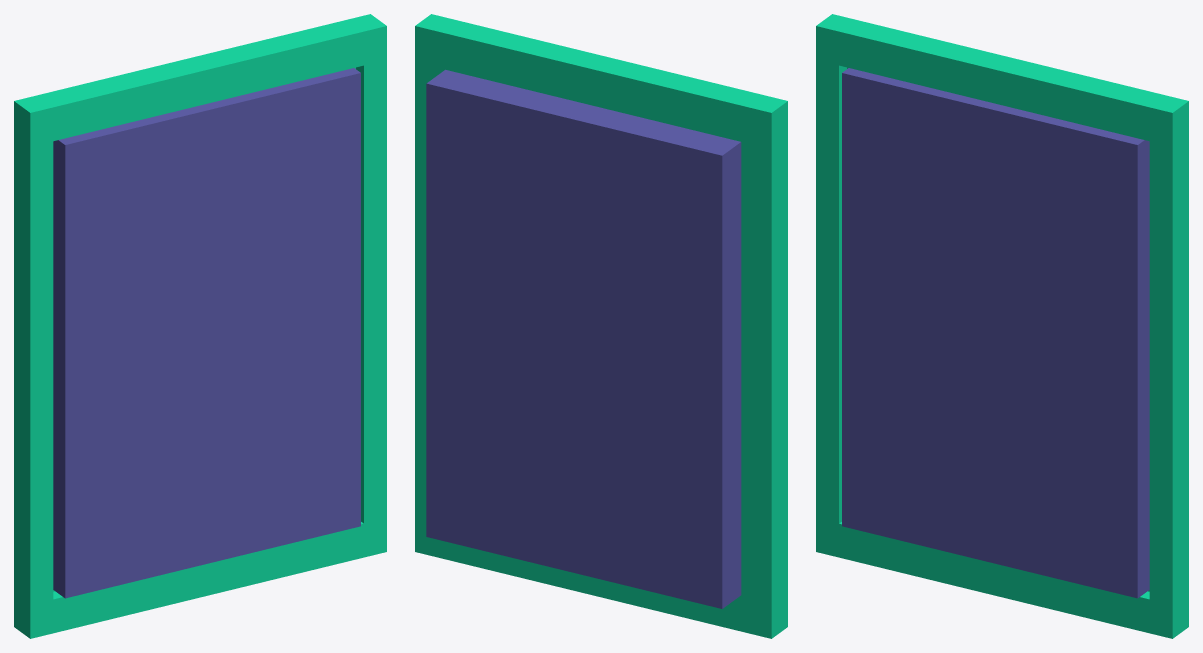
File: cuadro_ok.fbx
3 views of the same model, side by side, from view 1: azimuth 30°, elevation 25°; view 2: azimuth 150°, elevation 25°; view 3: azimuth 330°, elevation 25° (orthographic).
Parts seen in each view (by area): view 1: Cube_1, Cube; view 2: Cube_1, Cube; view 3: Cube_1, Cube.
Part boxes in pixels (x1,y1,x2,y2): Cube_1: [53, 68, 360, 598]; Cube: [14, 14, 386, 638]; Cube_1: [426, 69, 741, 608]; Cube: [415, 14, 787, 638]; Cube_1: [842, 68, 1149, 598]; Cube: [816, 14, 1188, 638].
Bounding box in the file's own units: 200 × 282 × 38.6.
